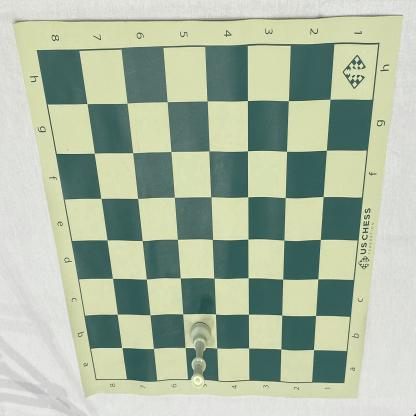white-queen: (189, 321, 212, 389)
